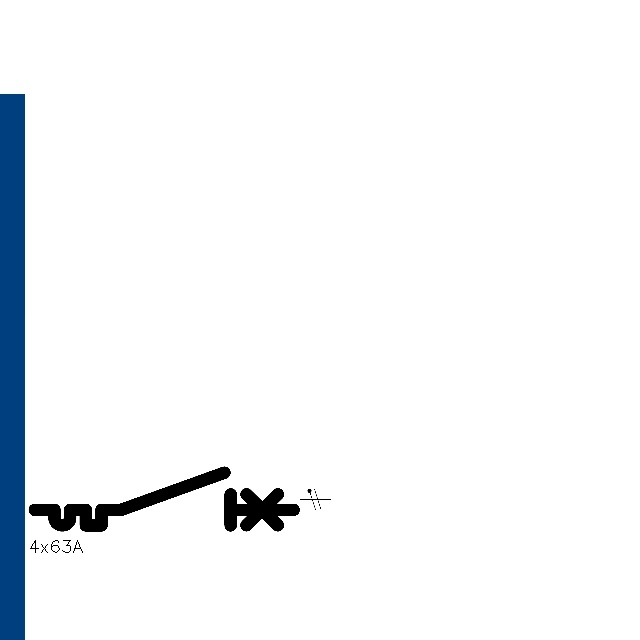interruptor_termomagnetico: (28, 466, 300, 532)
